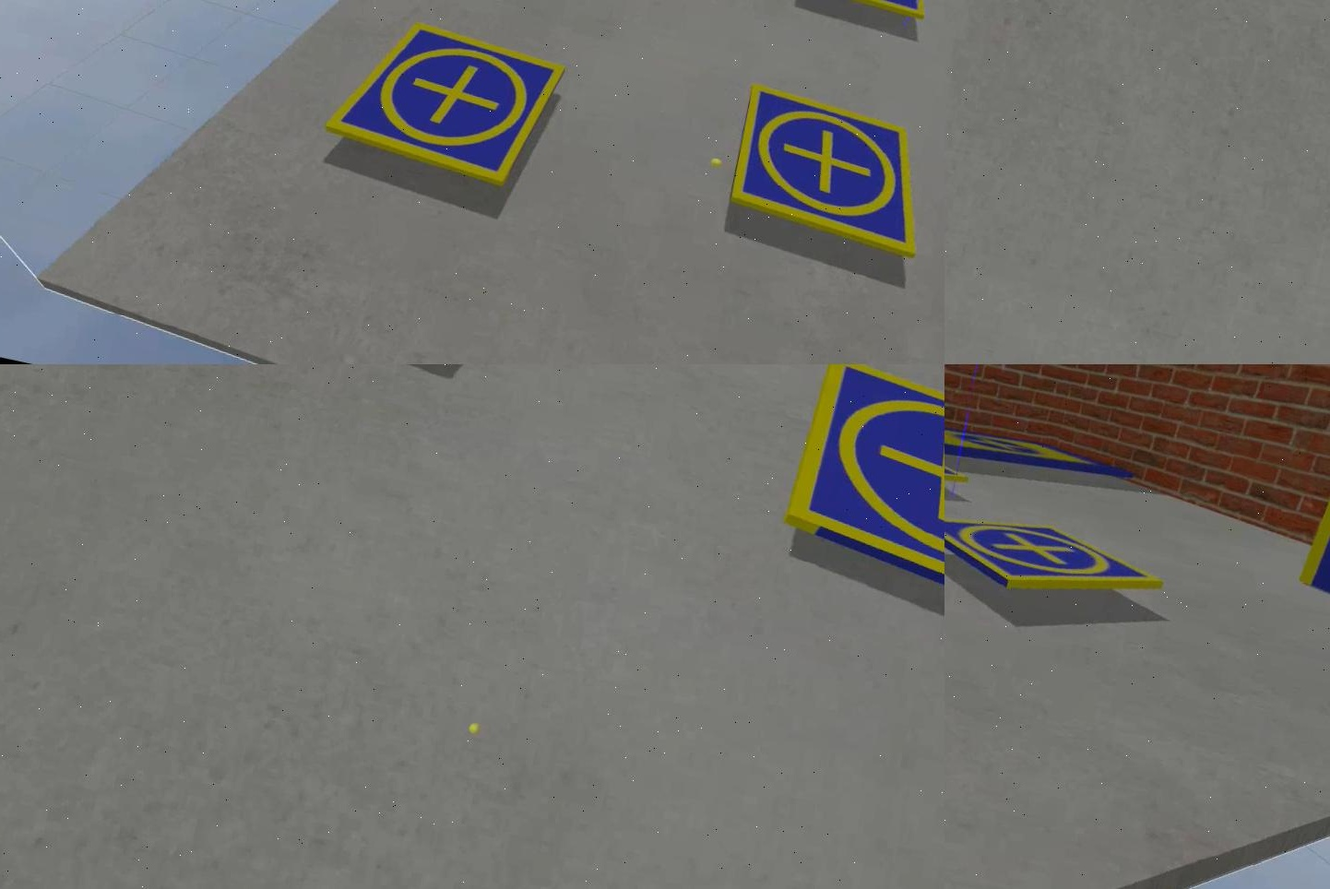large_base: (944, 400, 1135, 494)
small_base: (317, 8, 566, 197), (772, 365, 944, 626), (717, 86, 942, 260), (944, 494, 1168, 617), (790, 1, 938, 23)
